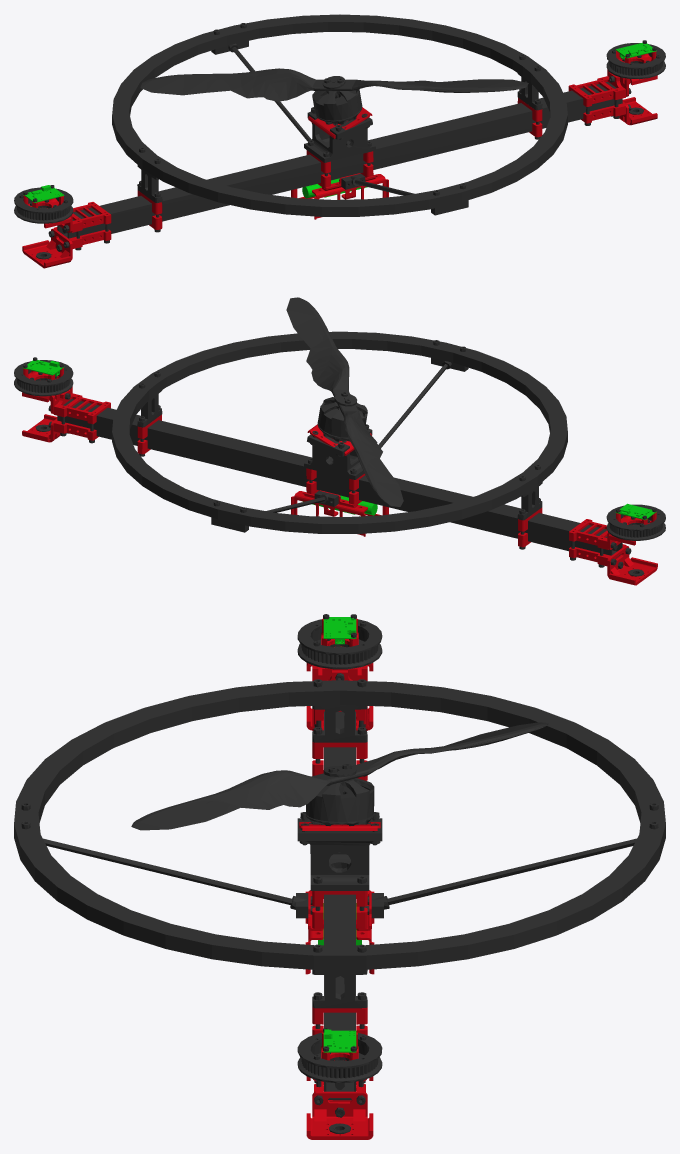
File: tilt_10deg_link2.dae
3 views of the same model, one above another, from view 1: azimuth 30°, elevation 25°; view 2: azimuth 150°, elevation 25°; view 3: azimuth 270°, elevation 25° (orthographic). The views are drawn at different scales.
Visible parts, largest first — view 1: tilt_10deg_link2_black_part, tilt_link2_red_part, link2_green_part; view 2: tilt_10deg_link2_black_part, tilt_link2_red_part, link2_green_part; view 3: tilt_10deg_link2_black_part, tilt_link2_red_part, link2_green_part.
Part boxes in pixels (bbox=[...]): tilt_10deg_link2_black_part: bbox=[14, 14, 665, 259]; tilt_link2_red_part: bbox=[22, 50, 657, 268]; link2_green_part: bbox=[23, 43, 656, 202]; tilt_10deg_link2_black_part: bbox=[14, 297, 665, 576]; tilt_link2_red_part: bbox=[22, 367, 657, 585]; link2_green_part: bbox=[23, 360, 656, 520]; tilt_10deg_link2_black_part: bbox=[14, 614, 665, 1133]; tilt_link2_red_part: bbox=[299, 618, 380, 1139]; link2_green_part: bbox=[318, 617, 361, 1052].
Size of the model in its own units: 0.6521 by 0.3997 by 0.1362.
